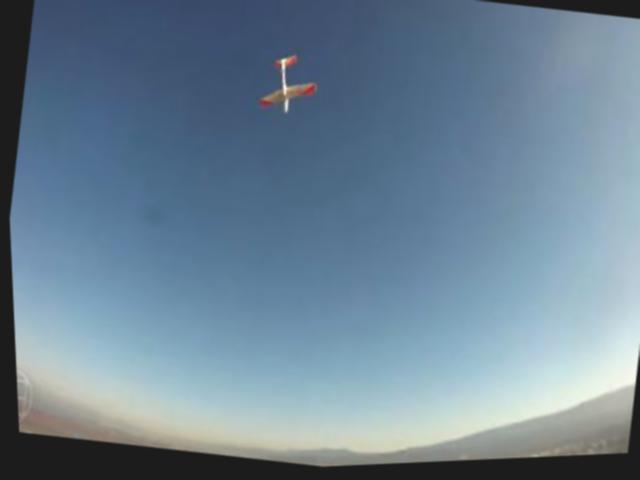uav: (244, 42, 329, 135)
